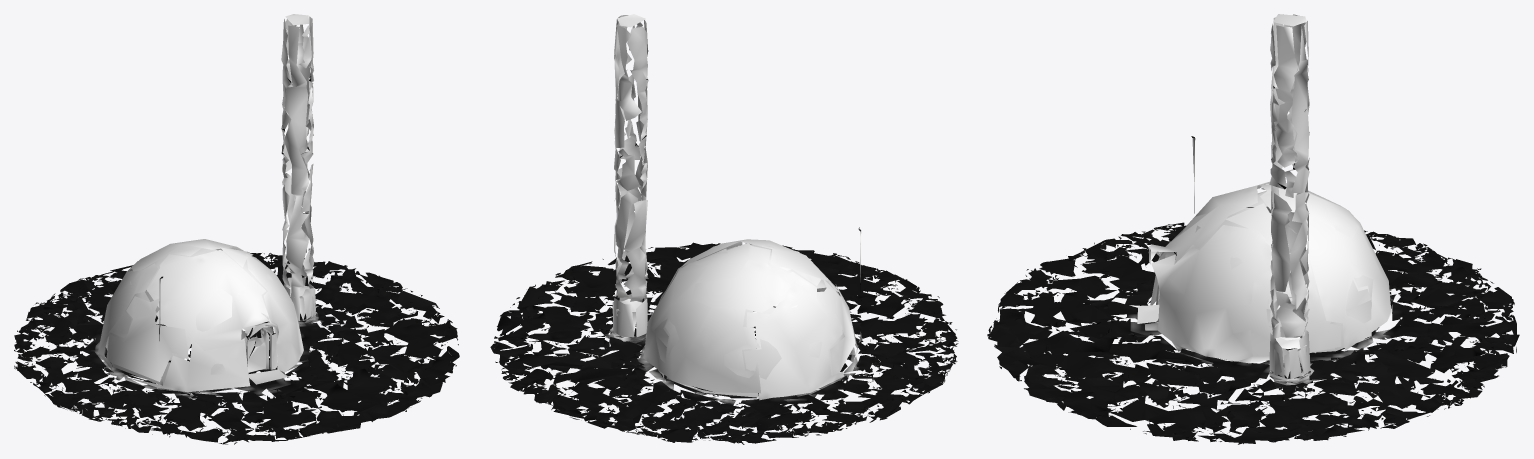
Rendered from lahmu-homestead.lo.glb.
3 renders of one model, left to right at view 1: azimuth 30°, elevation 25°; view 2: azimuth 150°, elevation 25°; view 3: azimuth 270°, elevation 25°, orthographic. The views are drawn at different scales.
Parts seen in each view (by area): view 1: low; view 2: low; view 3: low.
Part boxes in pixels (box(x1,y1,x2,y2)): low: box(14, 14, 459, 444); low: box(490, 14, 958, 444); low: box(987, 14, 1519, 444).
Size of the model in its own units: 0.9995 by 0.7418 by 0.9964.
1 material, 1 textured.
